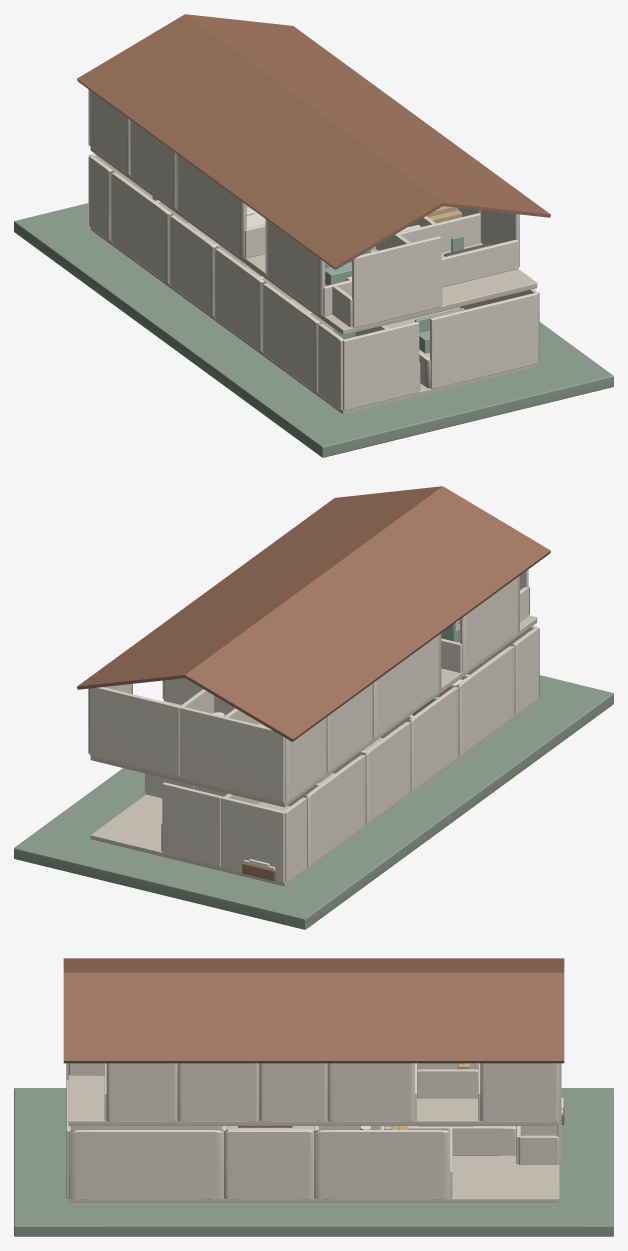
Rendered from house.glb.
The picture shows the model from 3 angles, top to bottom: view 1: azimuth 30°, elevation 25°; view 2: azimuth 150°, elevation 25°; view 3: azimuth 270°, elevation 25°; orthographic projection. The views are drawn at different scales.
Visible parts, largest first — view 1: Roof_Slope_Left, Site_Ground, Roof_Slope_Right, F1_Wall_027, F2_Wall_013, F1_Wall_001, F1_Wall_011, F2_Slab, F1_Wall_002, F2_Wall_003, F1_Wall_005, F1_Wall_008 (+11 smaller); view 2: Roof_Slope_Left, Site_Ground, Roof_Slope_Right, F2_Wall_011, F2_Wall_022, F1_Wall_011, F1_Slab, F1_Wall_020, F1_Wall_002, F1_Wall_017, F2_Wall_003, F1_Wall_005 (+9 smaller); view 3: Roof_Slope_Right, Site_Ground, F1_Wall_047, F1_Wall_049, Roof_Slope_Left, F1_Slab, F1_Wall_048, F2_Slab, F2_Wall_044, F2_Wall_042, F2_Wall_045, F2_Wall_041 (+6 smaller).
Boxes of the visible parts, left/top/right/bottom form: Roof_Slope_Left: left=77, top=14, right=443, bottom=269; Site_Ground: left=14, top=203, right=613, bottom=457; Roof_Slope_Right: left=186, top=14, right=550, bottom=217; F1_Wall_027: left=430, top=292, right=538, bottom=389; F2_Wall_013: left=352, top=236, right=441, bottom=327; F1_Wall_001: left=342, top=321, right=419, bottom=410; F1_Wall_011: left=109, top=171, right=171, bottom=282; F2_Slab: left=90, top=147, right=537, bottom=335; F1_Wall_002: left=261, top=282, right=320, bottom=392; F2_Wall_003: left=175, top=153, right=246, bottom=257; F1_Wall_005: left=213, top=247, right=264, bottom=351; F1_Wall_008: left=168, top=214, right=216, bottom=315; Roof_Slope_Left: left=184, top=486, right=550, bottom=741; Site_Ground: left=14, top=675, right=613, bottom=929; Roof_Slope_Right: left=77, top=486, right=441, bottom=689; F2_Wall_011: left=179, top=706, right=284, bottom=802; F2_Wall_022: left=89, top=687, right=180, bottom=776; F1_Wall_011: left=304, top=754, right=366, bottom=866; F1_Slab: left=90, top=696, right=537, bottom=886; F1_Wall_020: left=162, top=782, right=222, bottom=867; F1_Wall_002: left=456, top=645, right=515, bottom=755; F1_Wall_017: left=221, top=796, right=285, bottom=882; F2_Wall_003: left=374, top=633, right=441, bottom=737; F1_Wall_005: left=408, top=686, right=459, bottom=790; Roof_Slope_Right: left=63, top=972, right=564, bottom=1063; Site_Ground: left=14, top=1088, right=613, bottom=1236; F1_Wall_047: left=68, top=1130, right=223, bottom=1199; F1_Wall_049: left=314, top=1130, right=450, bottom=1199; Roof_Slope_Left: left=63, top=958, right=564, bottom=972; F1_Slab: left=68, top=1126, right=559, bottom=1202; F1_Wall_048: left=224, top=1130, right=313, bottom=1199; F2_Slab: left=68, top=1075, right=559, bottom=1125; F2_Wall_044: left=327, top=1063, right=414, bottom=1121; F2_Wall_042: left=177, top=1063, right=259, bottom=1121; F2_Wall_045: left=480, top=1063, right=559, bottom=1121; F2_Wall_041: left=106, top=1063, right=177, bottom=1121.
Size of the model in its own units: 12 by 7.91 by 22.
